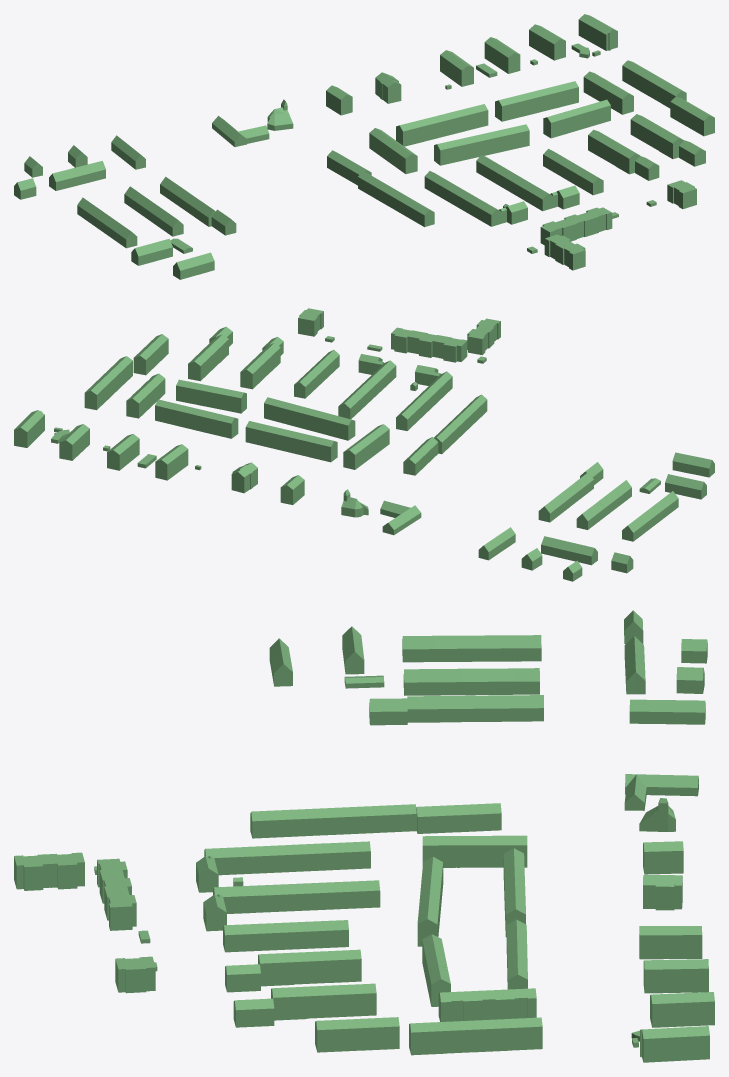
The model's file is parklet.glb.
The picture shows the model from 3 angles, top to bottom: view 1: azimuth 30°, elevation 25°; view 2: azimuth 150°, elevation 25°; view 3: azimuth 270°, elevation 25°; orthographic projection. The views are drawn at different scales.
Visible parts, largest first — view 1: world; view 2: world; view 3: world.
Boxes of the visible parts, x1,y1,x2,y2 form: world: (14, 14, 714, 279); world: (14, 308, 714, 581); world: (14, 610, 714, 1062).
Bounding box in the file's own units: 491 × 18.72 × 338.
